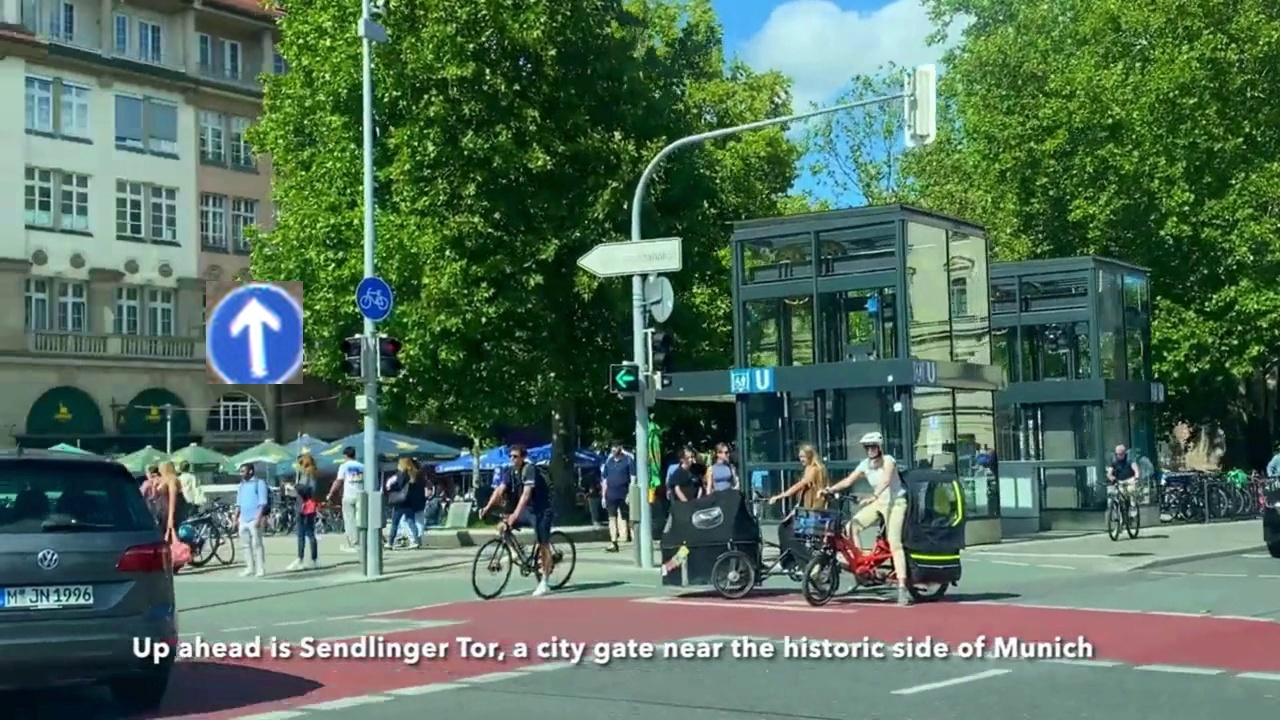Ahead only: (206, 281, 303, 384)
